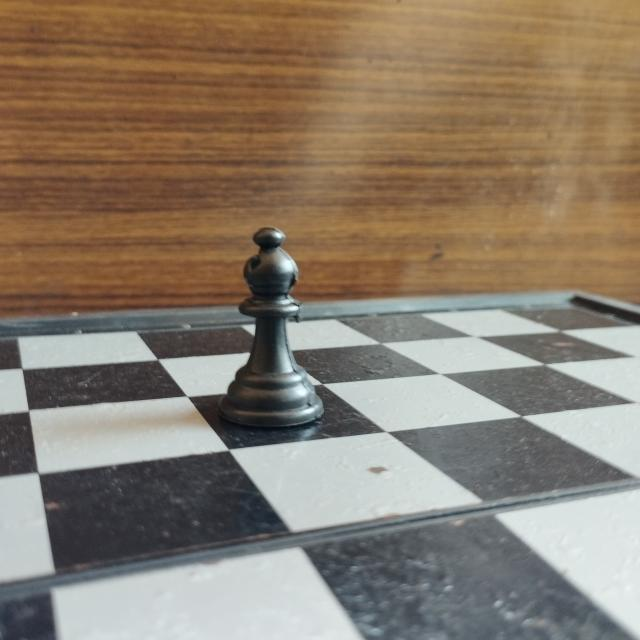Black Bishop: (210, 216, 328, 435)
